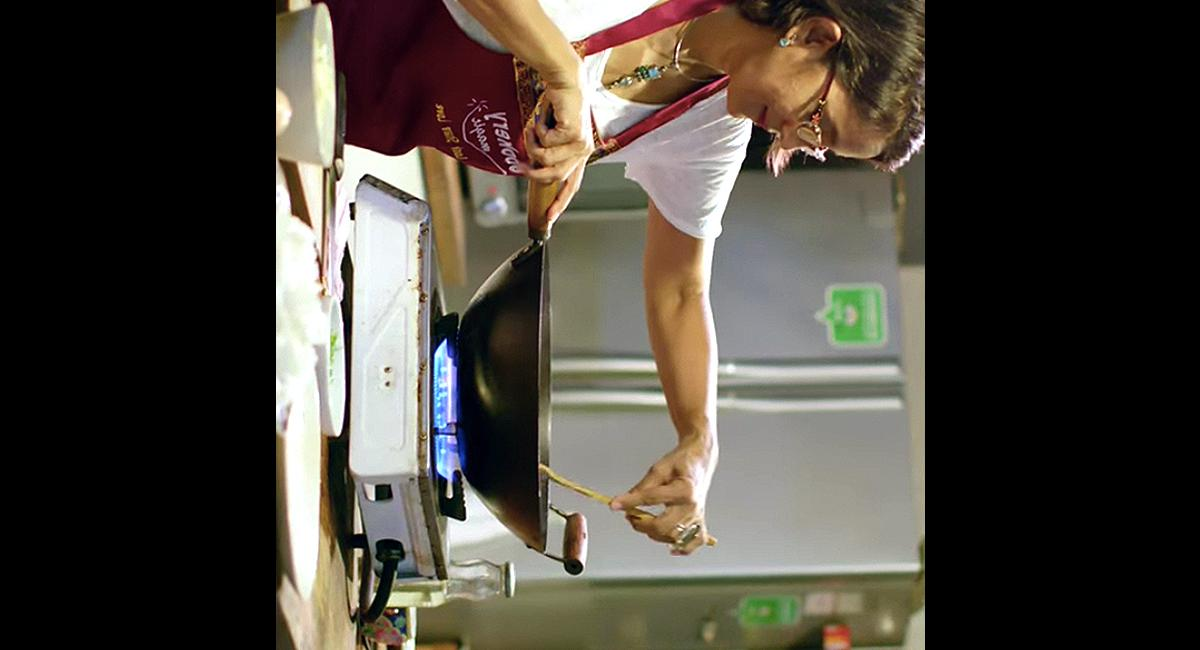controlled_fire: (424, 294, 520, 539)
